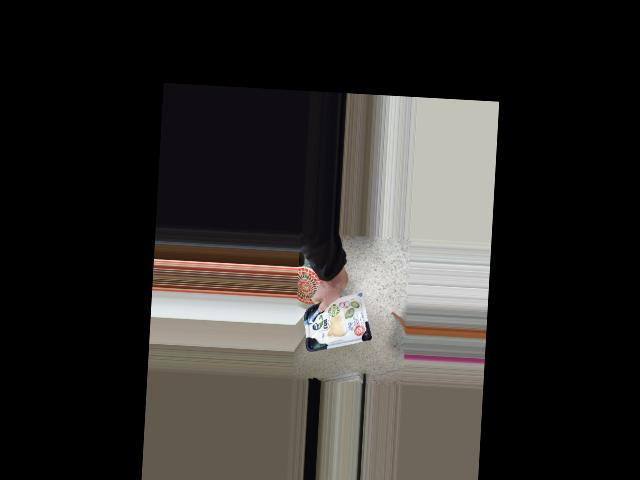cheese: (301, 289, 370, 355)
